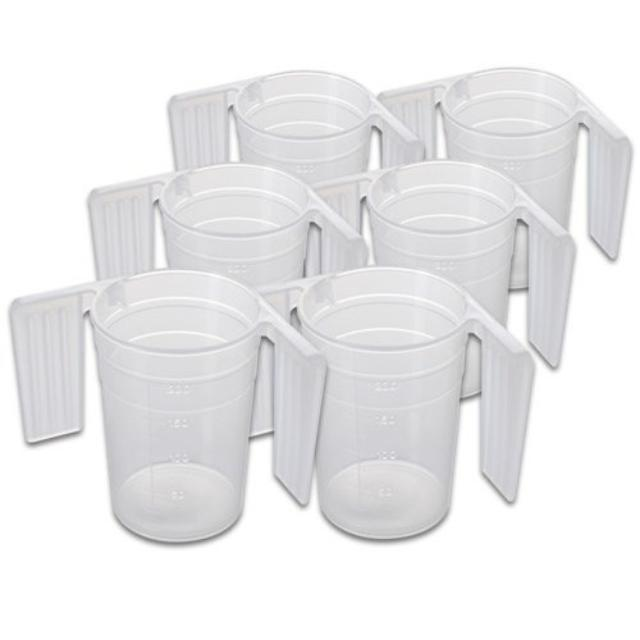plastic: (11, 68, 631, 542)
